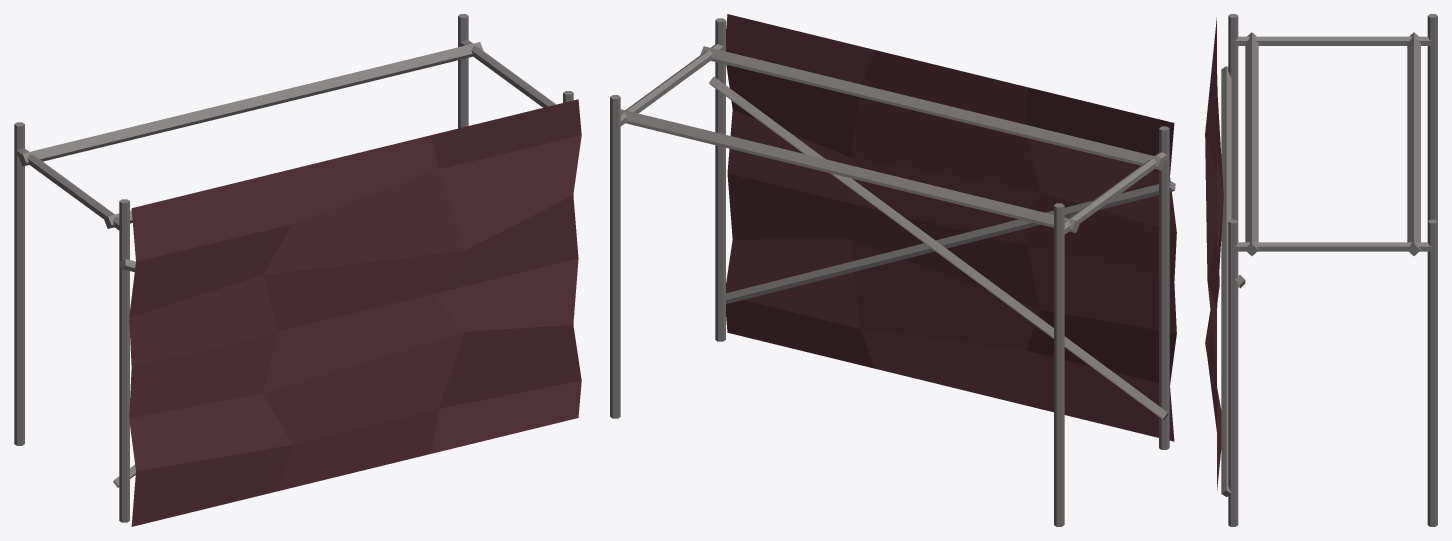
The model's file is scaffolding-covered.fbx.
The picture shows the model from 3 angles, left to right: view 1: azimuth 30°, elevation 25°; view 2: azimuth 150°, elevation 25°; view 3: azimuth 270°, elevation 25°; orthographic projection. The views are drawn at different scales.
Visible parts, largest first — view 1: scaffolding-covered; view 2: scaffolding-covered; view 3: scaffolding-covered.
Part boxes in pixels (bbox=[...]): scaffolding-covered: bbox=[14, 14, 581, 526]; scaffolding-covered: bbox=[610, 14, 1176, 526]; scaffolding-covered: bbox=[1205, 14, 1437, 526].
Size of the model in its own units: 3.01 by 2.01 by 1.39.
